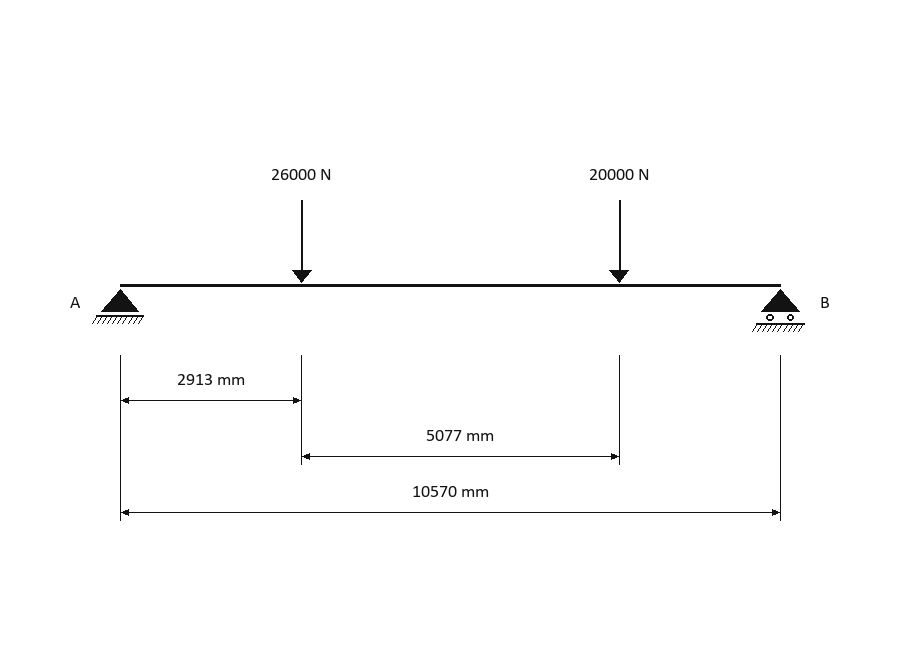pin_support: (92, 289, 144, 324)
point_load: (292, 200, 312, 283), (609, 200, 629, 283)
roller_support: (752, 289, 805, 332)
